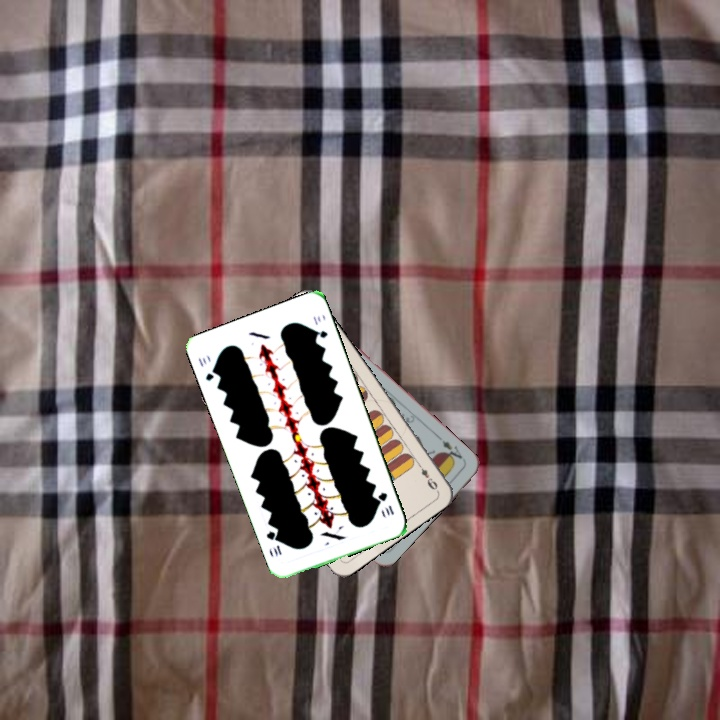E9: (413, 458, 441, 493)
EA: (434, 433, 465, 466)
G10: (194, 353, 220, 384), (374, 488, 397, 519)
